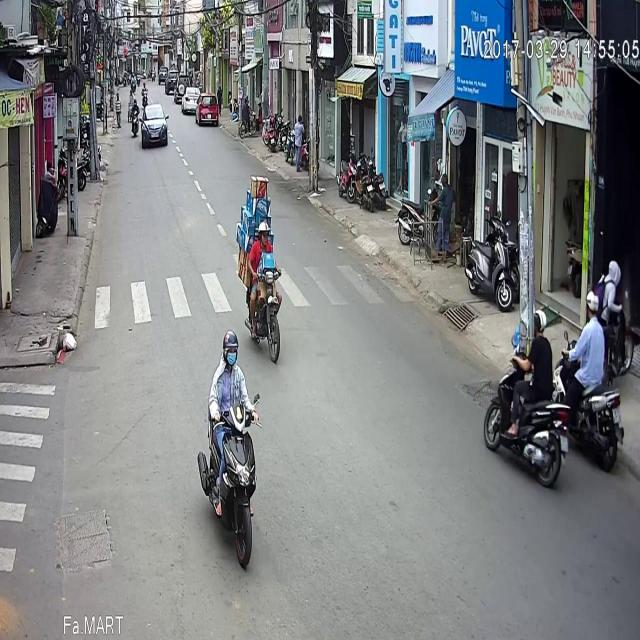car: (139, 44, 169, 92), (194, 34, 218, 68)
motorcycle: (196, 271, 261, 512), (483, 252, 569, 428), (550, 231, 624, 413), (243, 162, 282, 308), (130, 39, 139, 79)
